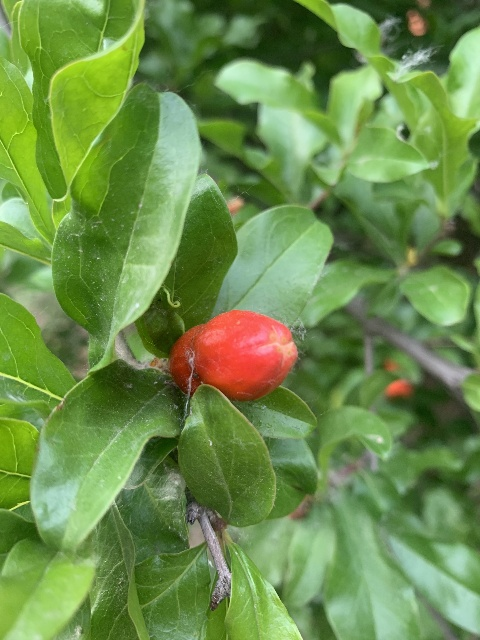bud: (168, 309, 298, 403)
